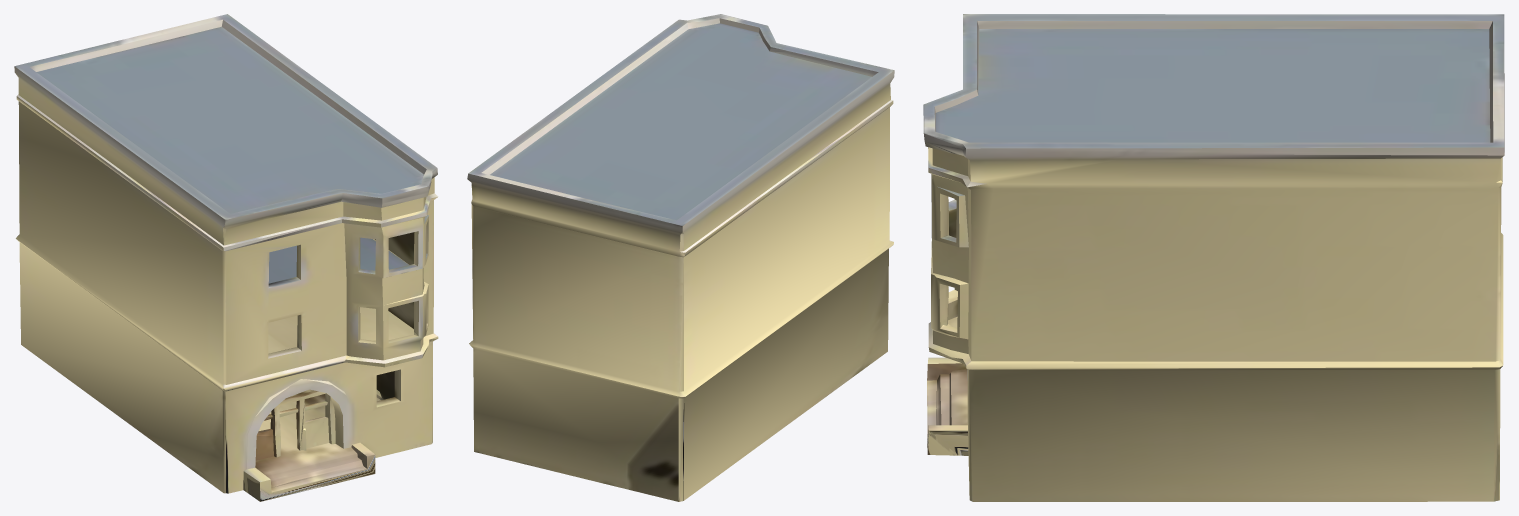
File: richmond-flats.glb
3 renders of one model, left to right at view 1: azimuth 30°, elevation 25°; view 2: azimuth 150°, elevation 25°; view 3: azimuth 270°, elevation 25°, orthographic. The views are drawn at different scales.
Visible parts, largest first — view 1: richmond-flats; view 2: richmond-flats; view 3: richmond-flats.
Boxes of the visible parts, x1,y1,x2,y2 form: richmond-flats: (14, 14, 438, 501); richmond-flats: (467, 14, 894, 501); richmond-flats: (923, 14, 1504, 501).
Bounding box in the file's own units: 4.4 × 5.4 × 8.
1 material, 1 textured.
